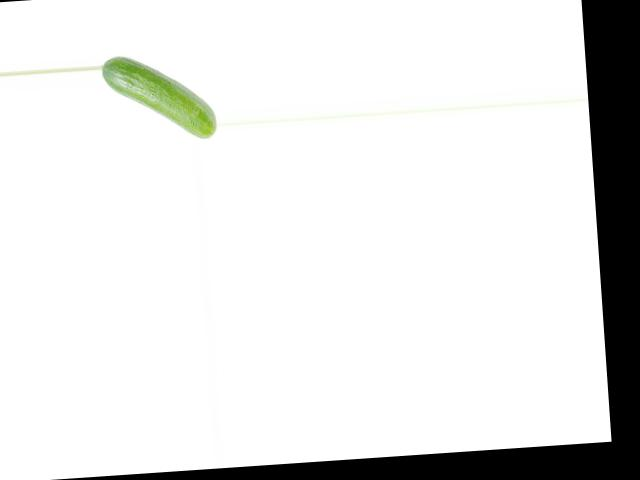cucumber: (99, 49, 218, 144)
